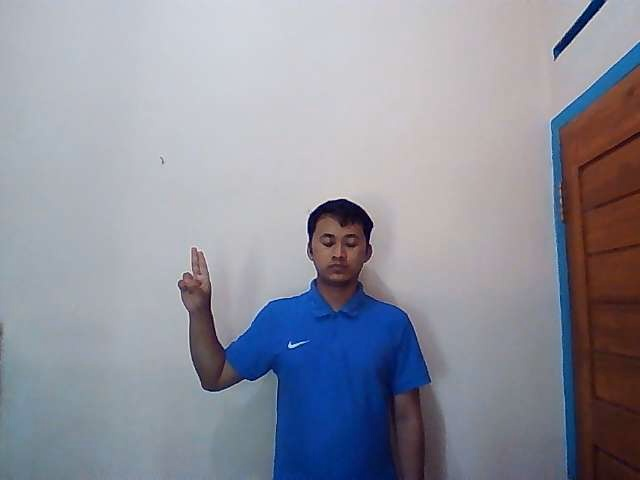U: (177, 245, 213, 312)
